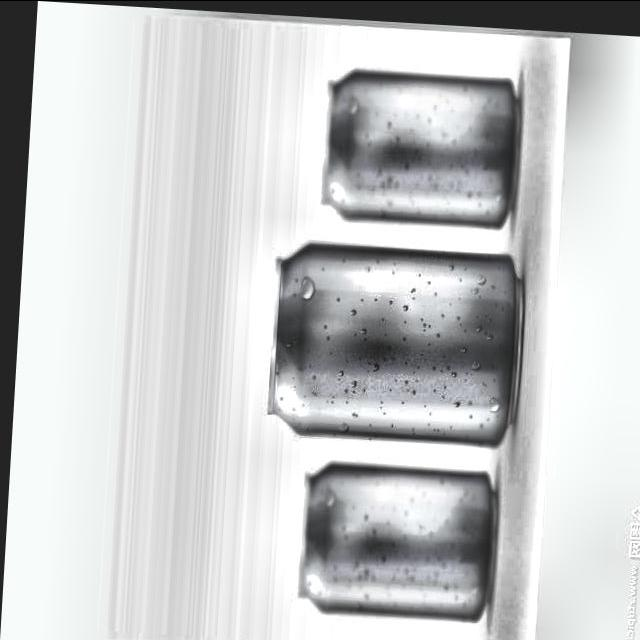litter: (252, 228, 525, 448), (302, 56, 525, 233), (288, 452, 498, 624)
